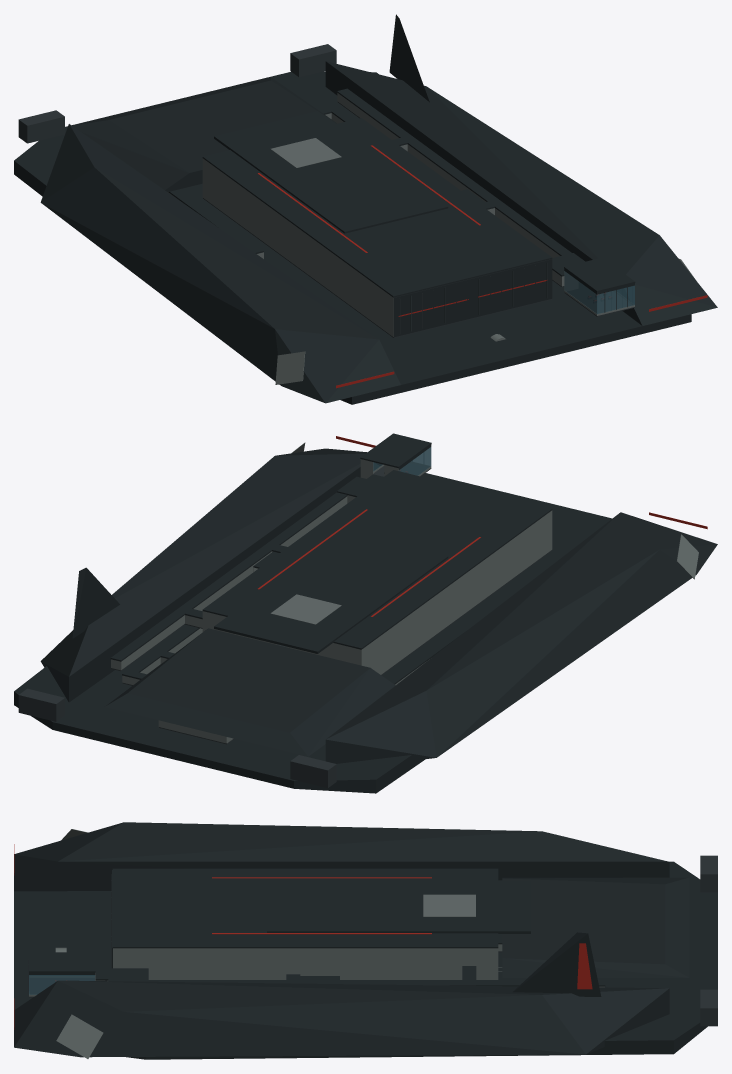
3 views of the same model, one above another, from view 1: azimuth 30°, elevation 25°; view 2: azimuth 150°, elevation 25°; view 3: azimuth 270°, elevation 25° (orthographic).
Parts seen in each view (by area): view 1: mothership-roof-painted, mothership-side-hull--1-painted, mothership-side-hull-1-painted, mothership-painted, mothership-interior-walls-painted, mothership-door--1-painted, mothership-door-1-painted, mothership-interior-walls-glazing, breakaway-mothership-fin-1-painted; view 2: mothership-roof-painted, mothership-side-hull--1-painted, mothership-side-hull-1-painted, mothership-painted, mothership-interior-walls-painted, breakaway-mothership-fin-1-painted; view 3: mothership-roof-painted, mothership-side-hull-1-painted, mothership-side-hull--1-painted, mothership-painted, mothership-interior-walls-painted, breakaway-mothership-fin-1-painted, mothership-interior-walls-glazing.
Boxes of the visible parts, box(x1,y1,x2,y2) form: mothership-roof-painted: box(67, 77, 635, 297); mothership-side-hull--1-painted: box(40, 124, 400, 403); mothership-side-hull-1-painted: box(325, 61, 717, 325); mothership-painted: box(14, 44, 691, 404); mothership-interior-walls-painted: box(168, 93, 634, 336); mothership-door--1-painted: box(393, 278, 473, 337); mothership-door-1-painted: box(473, 259, 552, 317); mothership-interior-walls-glazing: box(564, 271, 634, 314); breakaway-mothership-fin-1-painted: box(389, 14, 429, 102); mothership-roof-painted: box(105, 433, 552, 756); mothership-side-hull--1-painted: box(325, 512, 717, 763); mothership-side-hull-1-painted: box(40, 436, 382, 702); mothership-painted: box(14, 463, 611, 793); mothership-interior-walls-painted: box(111, 445, 552, 743); breakaway-mothership-fin-1-painted: box(72, 567, 119, 638); mothership-roof-painted: box(29, 868, 689, 986); mothership-side-hull-1-painted: box(14, 980, 669, 1058); mothership-side-hull--1-painted: box(14, 822, 669, 891); mothership-painted: box(14, 855, 717, 1059); mothership-interior-walls-painted: box(28, 944, 604, 996); breakaway-mothership-fin-1-painted: box(512, 932, 601, 996); mothership-interior-walls-glazing: box(29, 975, 95, 994).
Size of the model in its own units: 1170 by 291 by 1684.
